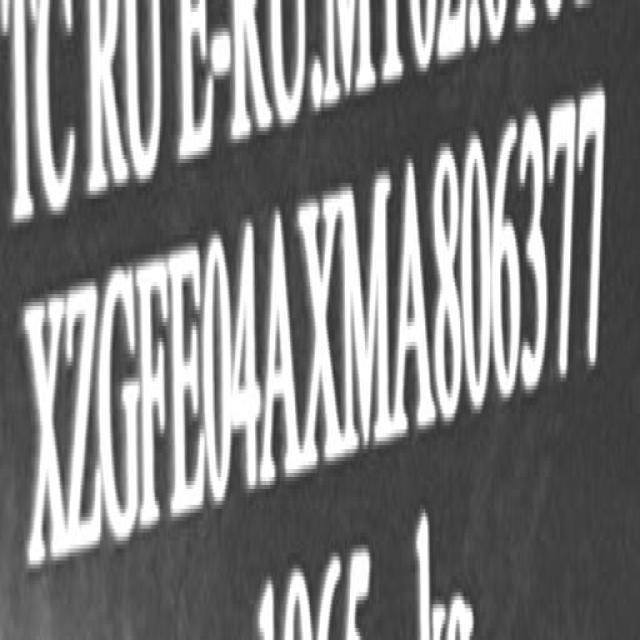0: (202, 227, 234, 515), (464, 129, 494, 420)
3: (521, 100, 552, 402)
4: (226, 226, 263, 505)
6: (490, 118, 522, 405)
7: (580, 82, 611, 400), (551, 95, 581, 398)
8: (431, 139, 464, 431)
A: (392, 148, 435, 443), (261, 202, 303, 490)
E: (169, 239, 204, 524)
F: (138, 238, 170, 540)
G: (101, 259, 142, 551)
M: (340, 168, 397, 456)
X: (300, 184, 344, 474), (27, 284, 66, 576)
Z: (61, 277, 100, 568)
